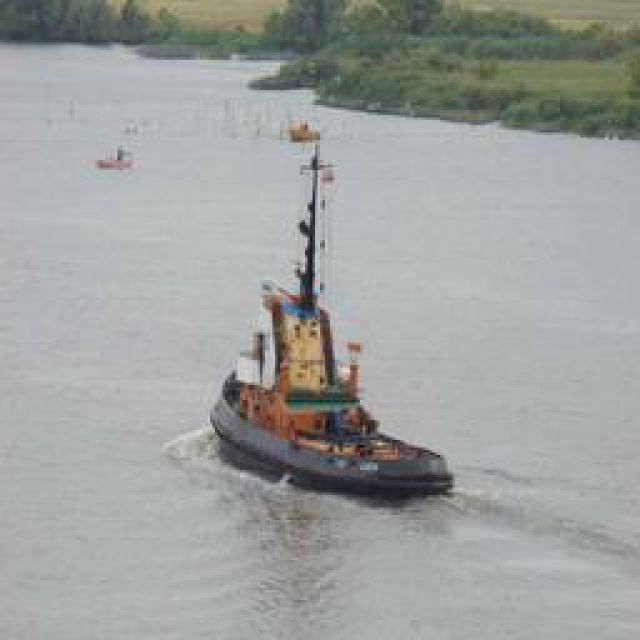Ship: (213, 120, 451, 500)
